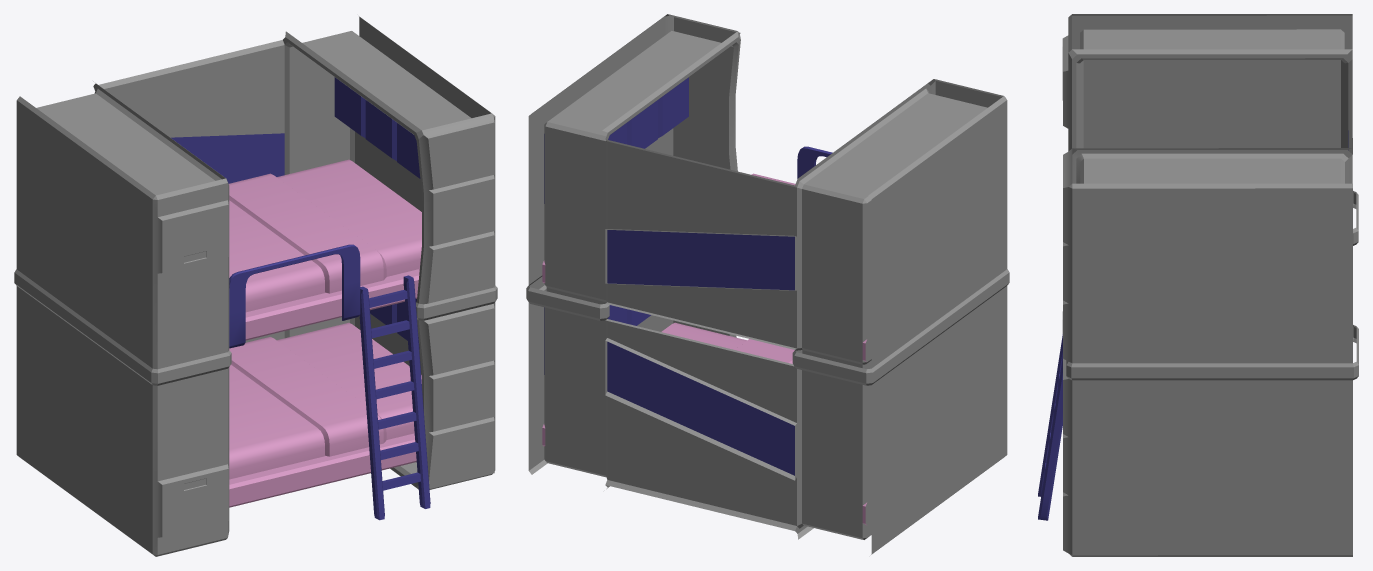
File: Bed.fbx
3 views of the same model, side by side, from view 1: azimuth 30°, elevation 25°; view 2: azimuth 150°, elevation 25°; view 3: azimuth 270°, elevation 25° (orthographic). The views are drawn at different scales.
Parts seen in each view (by area): view 1: 1F001, bed002, bed001, Box003, Ladder, fraimline, box, window, Fence; view 2: 1F001, window, fraimline, box, bed001, bed002; view 3: 1F001, fraimline, Ladder.
Part boxes in pixels (x1=…): 1F001: x1=16, y1=16, x2=495, y2=556; bed002: x1=229, y1=173, x2=386, y2=479; bed001: x1=277, y1=159, x2=421, y2=439; Box003: x1=229, y1=269, x2=419, y2=507; Ladder: x1=359, y1=275, x2=430, y2=520; fraimline: x1=14, y1=269, x2=497, y2=385; box: x1=334, y1=77, x2=420, y2=349; window: x1=171, y1=133, x2=284, y2=183; Fence: x1=229, y1=244, x2=360, y2=348; 1F001: x1=528, y1=14, x2=1007, y2=554; window: x1=607, y1=230, x2=794, y2=475; fraimline: x1=526, y1=269, x2=1009, y2=385; box: x1=544, y1=77, x2=688, y2=374; bed001: x1=661, y1=322, x2=746, y2=349; bed002: x1=734, y1=173, x2=795, y2=363; 1F001: x1=1062, y1=14, x2=1352, y2=556; fraimline: x1=1066, y1=191, x2=1358, y2=380; Ladder: x1=1038, y1=334, x2=1062, y2=520.
Bounding box in the file's own units: 1130 × 1136 × 878.
